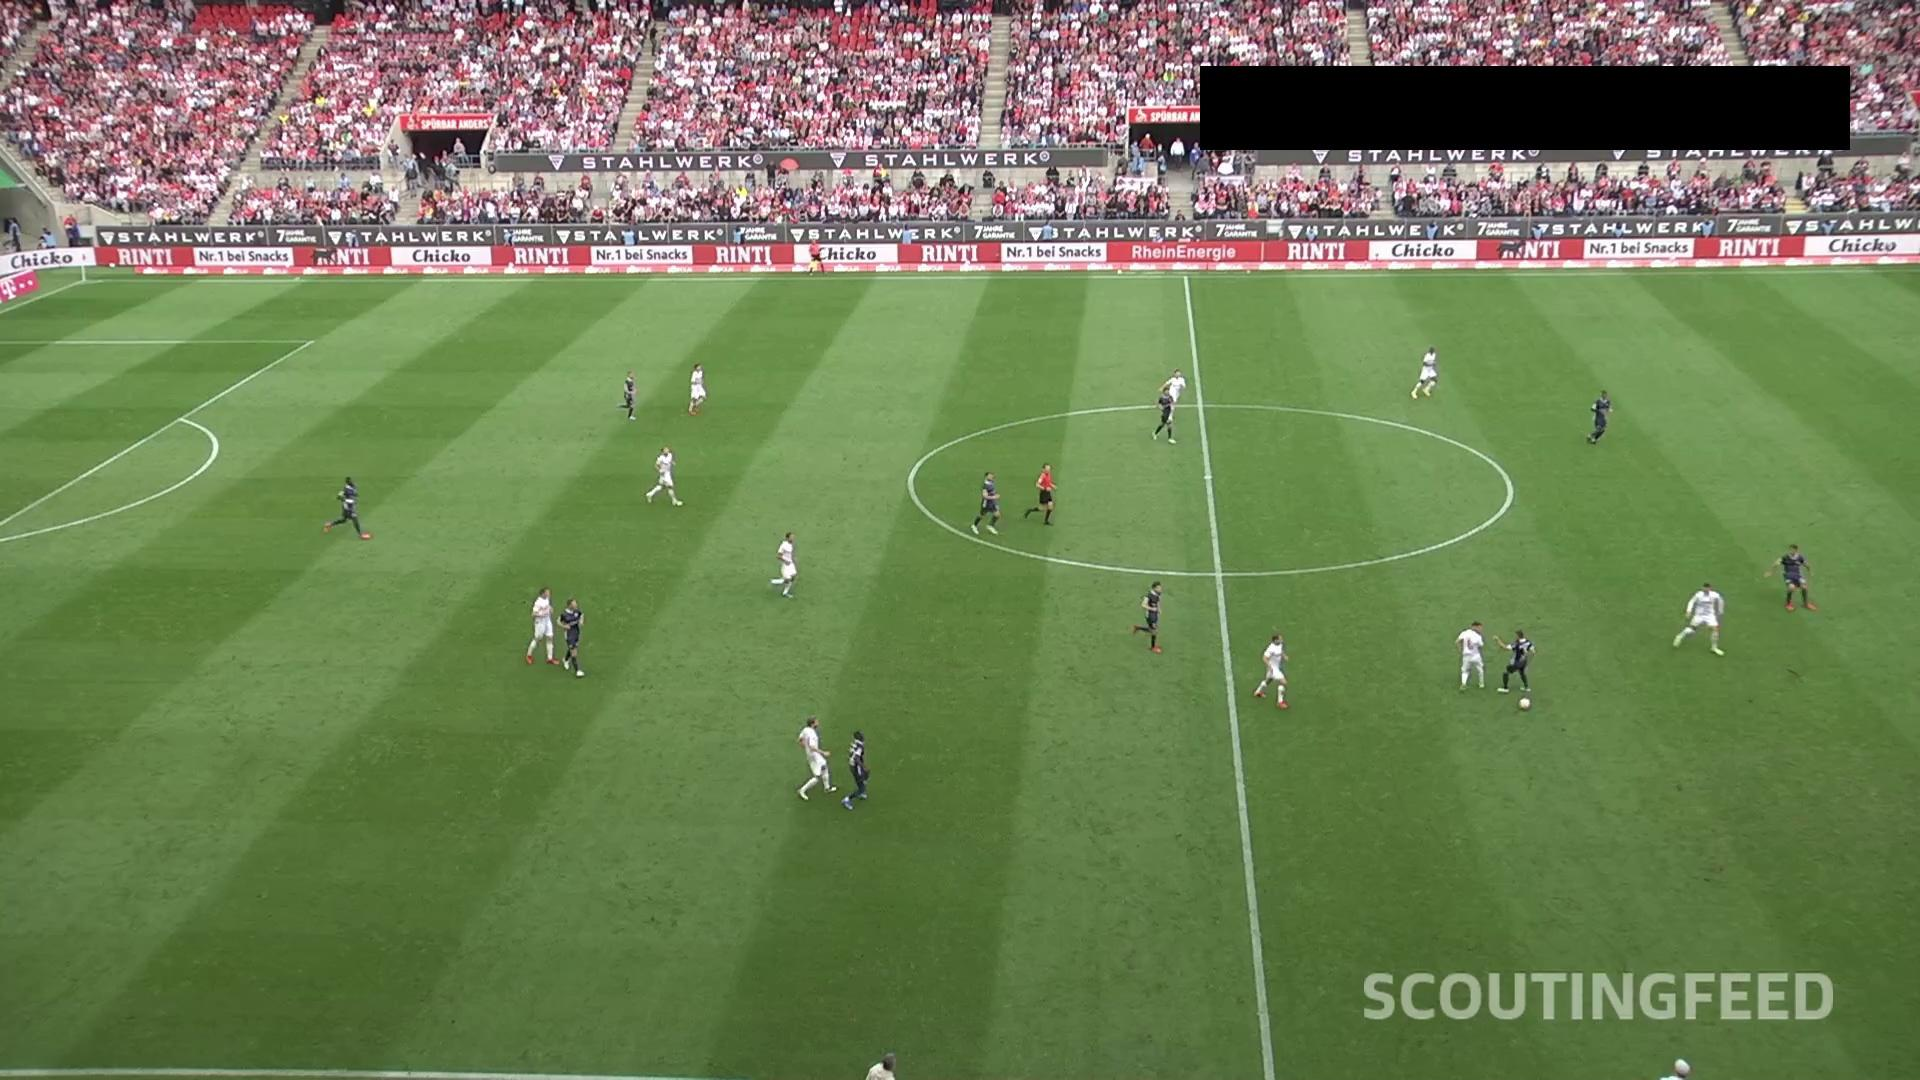Location-of-ball: (1501, 690, 1553, 720)
